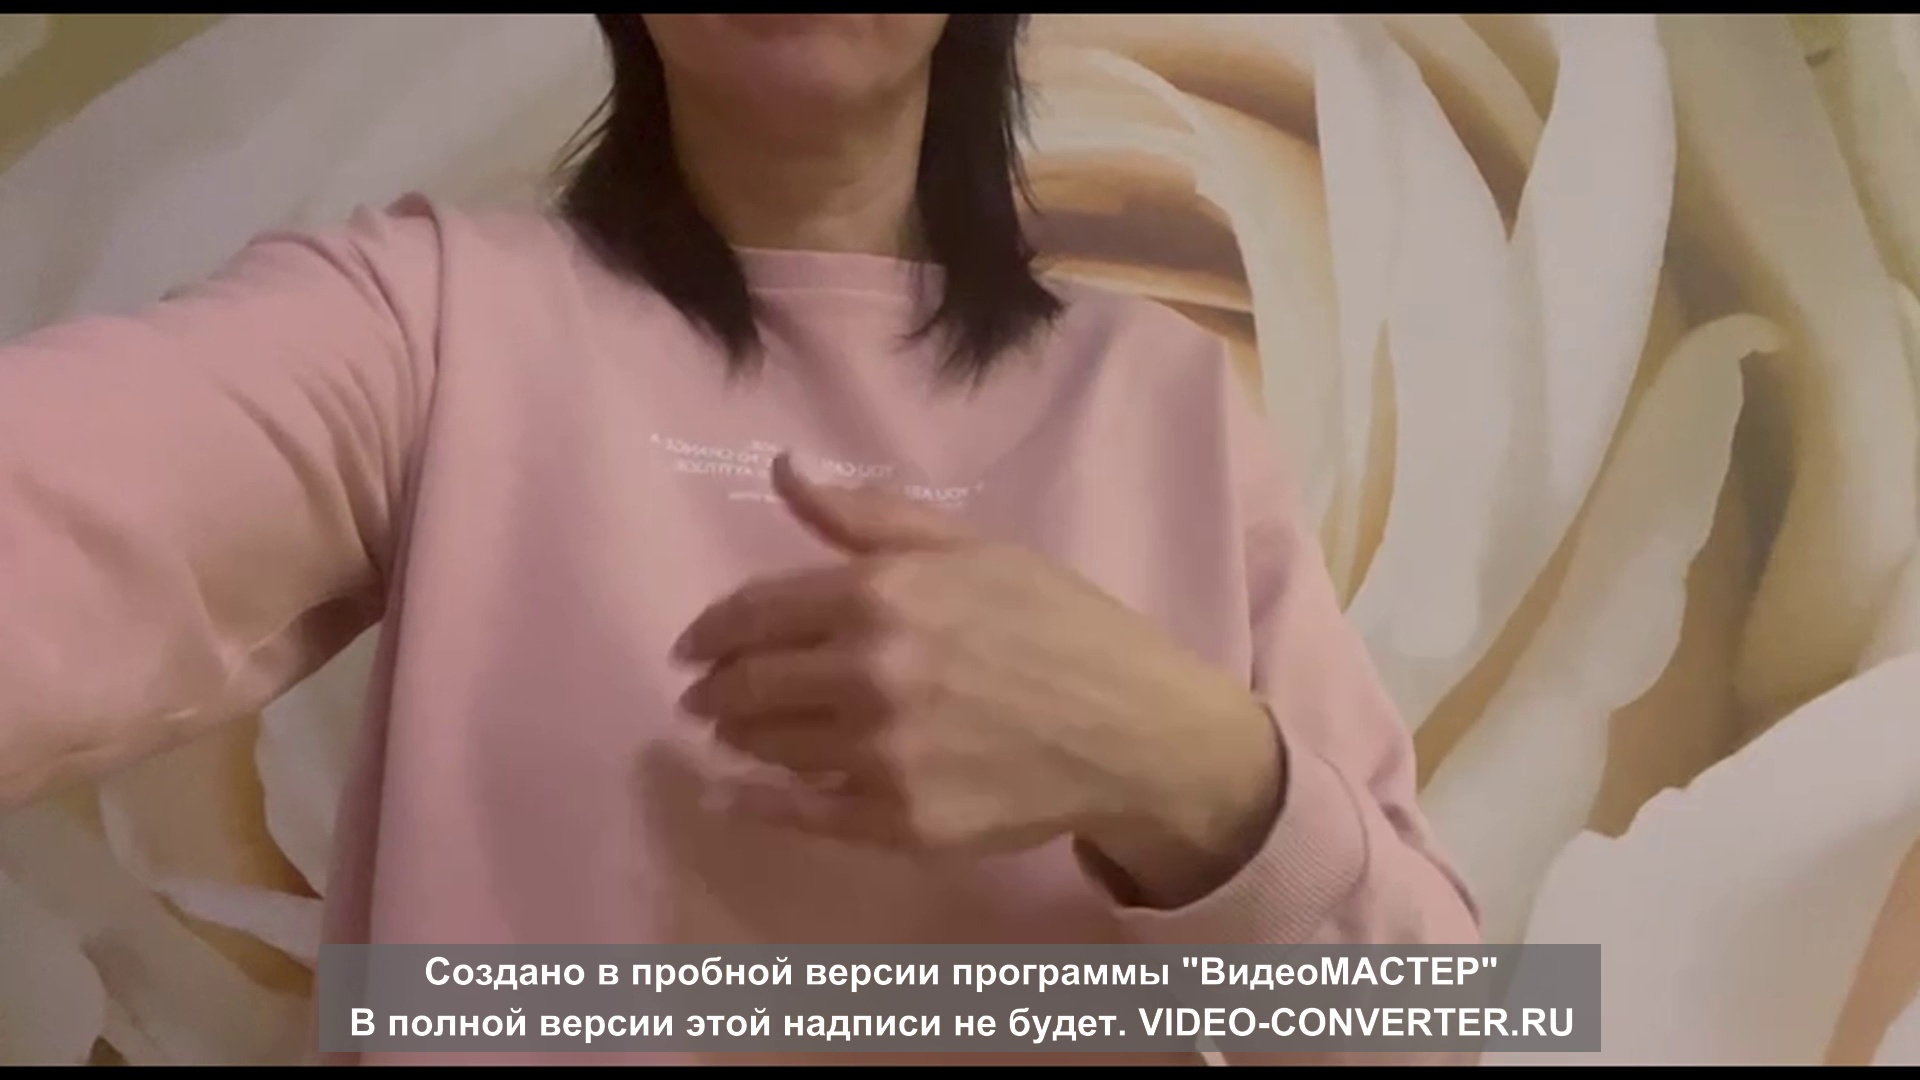Кисть: (674, 440, 1158, 864)
